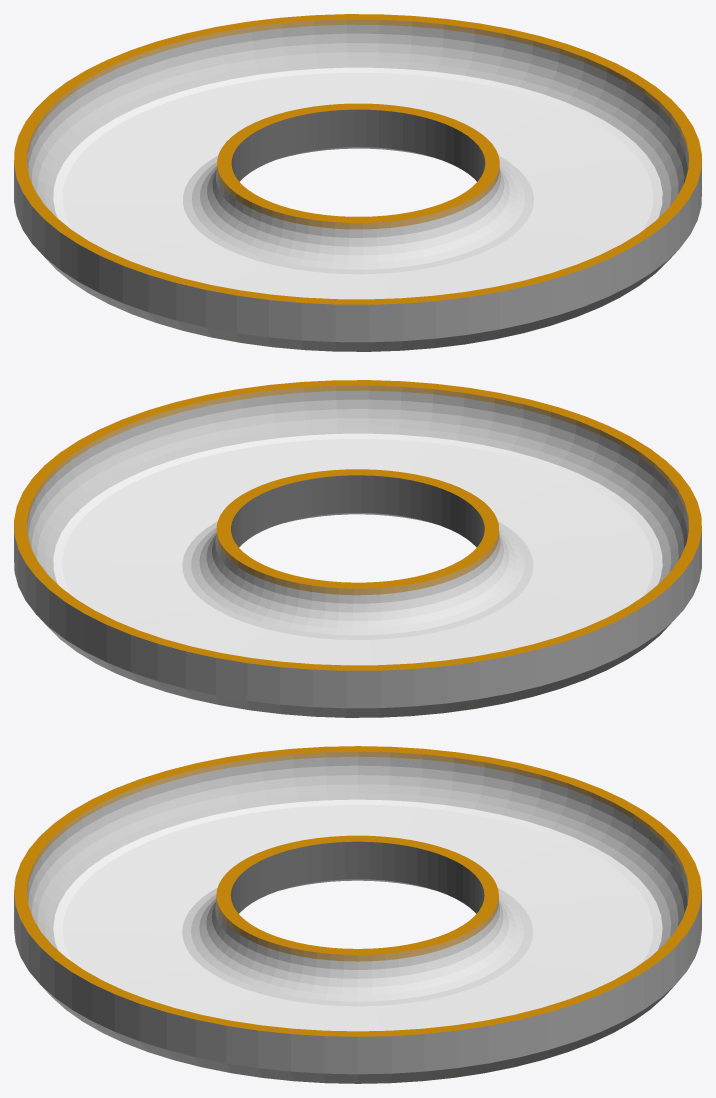
Rendered from QuarterRingWide_80x80x2.fbx.
3 views of the same model, one above another, from view 1: azimuth 30°, elevation 25°; view 2: azimuth 150°, elevation 25°; view 3: azimuth 270°, elevation 25° (orthographic).
Visible parts, largest first — view 1: QuarterRingWide_80x80x2; view 2: QuarterRingWide_80x80x2; view 3: QuarterRingWide_80x80x2.
Part boxes in pixels (x1,y1,x2,y2): QuarterRingWide_80x80x2: (14,14,701,351); QuarterRingWide_80x80x2: (14,380,701,717); QuarterRingWide_80x80x2: (14,746,701,1083).
Size of the model in its own units: 83.12 by 7 by 83.12.
